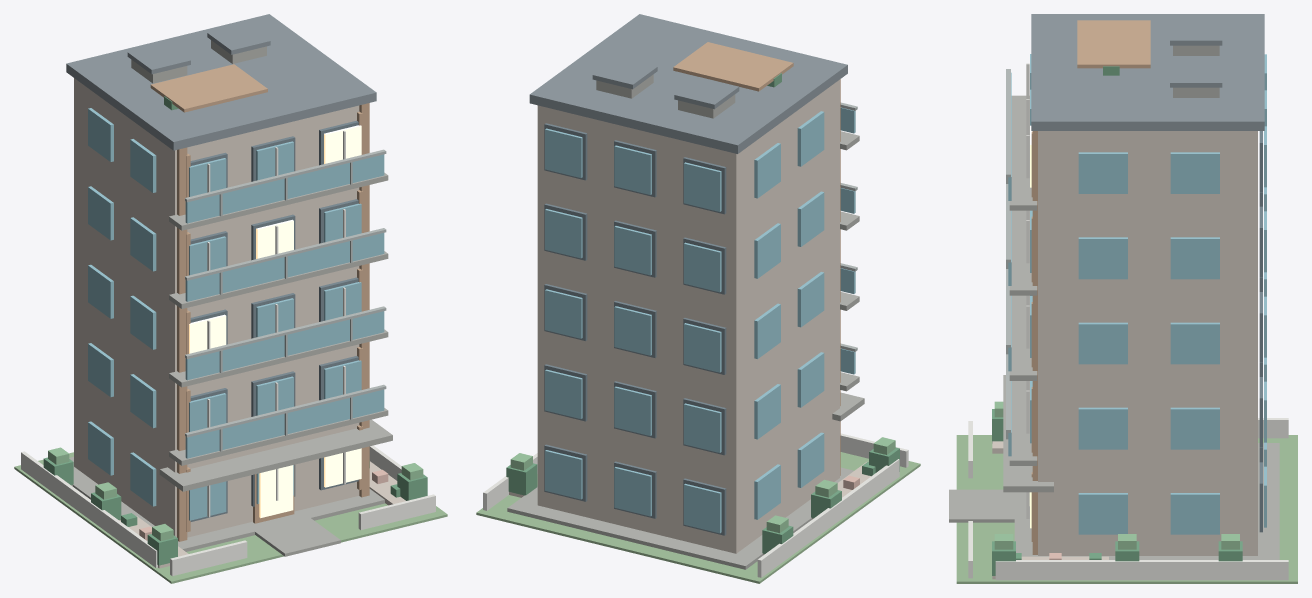
File: building-d.gltf
3 views of the same model, side by side, from view 1: azimuth 30°, elevation 25°; view 2: azimuth 150°, elevation 25°; view 3: azimuth 270°, elevation 25° (orthographic). The views are drawn at different scales.
Visible parts, largest first — view 1: WarmWall, BlueGlass, DarkRoof, Stone, Wood, White, WarmWindow, Metal, Dark, Grass, TreeLeaf, LeafLight; view 2: WarmWall, BlueGlass, DarkRoof, Dark, Stone, Grass, White, Wood, TreeLeaf, LeafLight; view 3: WarmWall, BlueGlass, DarkRoof, Stone, Grass, White, Wood, TreeLeaf, Metal, Dark, LeafLight.
Part boxes in pixels (x1,y1,x2,y2): WarmWall: (71,78,405,568); BlueGlass: (88,108,384,520); DarkRoof: (66,14,376,150); Stone: (69,40,392,556); Wood: (150,64,369,541); White: (21,130,435,576); WarmWindow: (189,125,361,518); Metal: (185,149,386,451); Dark: (190,120,358,521); Grass: (14,452,447,583); TreeLeaf: (43,96,427,565); LeafLight: (48,447,423,540); WarmWall: (509,79,870,554); BlueGlass: (545,107,855,533); DarkRoof: (529,14,847,153); Dark: (544,123,726,535); Stone: (507,74,864,569); Grass: (476,452,920,583); White: (483,433,908,577); Wood: (673,42,840,475); TreeLeaf: (506,73,899,553); LeafLight: (510,437,895,533); WarmWall: (992,131,1257,579); BlueGlass: (1008,54,1266,534); DarkRoof: (1031,14,1264,130); Stone: (949,45,1279,559); Grass: (956,435,1297,583); White: (968,63,1288,580); Wood: (1031,20,1150,554); TreeLeaf: (992,66,1242,575); Metal: (1006,69,1010,439); Dark: (1259,131,1262,532); LeafLight: (994,401,1239,549).
Bounding box in the file's own units: 10.4 × 15.22 × 10.47.
